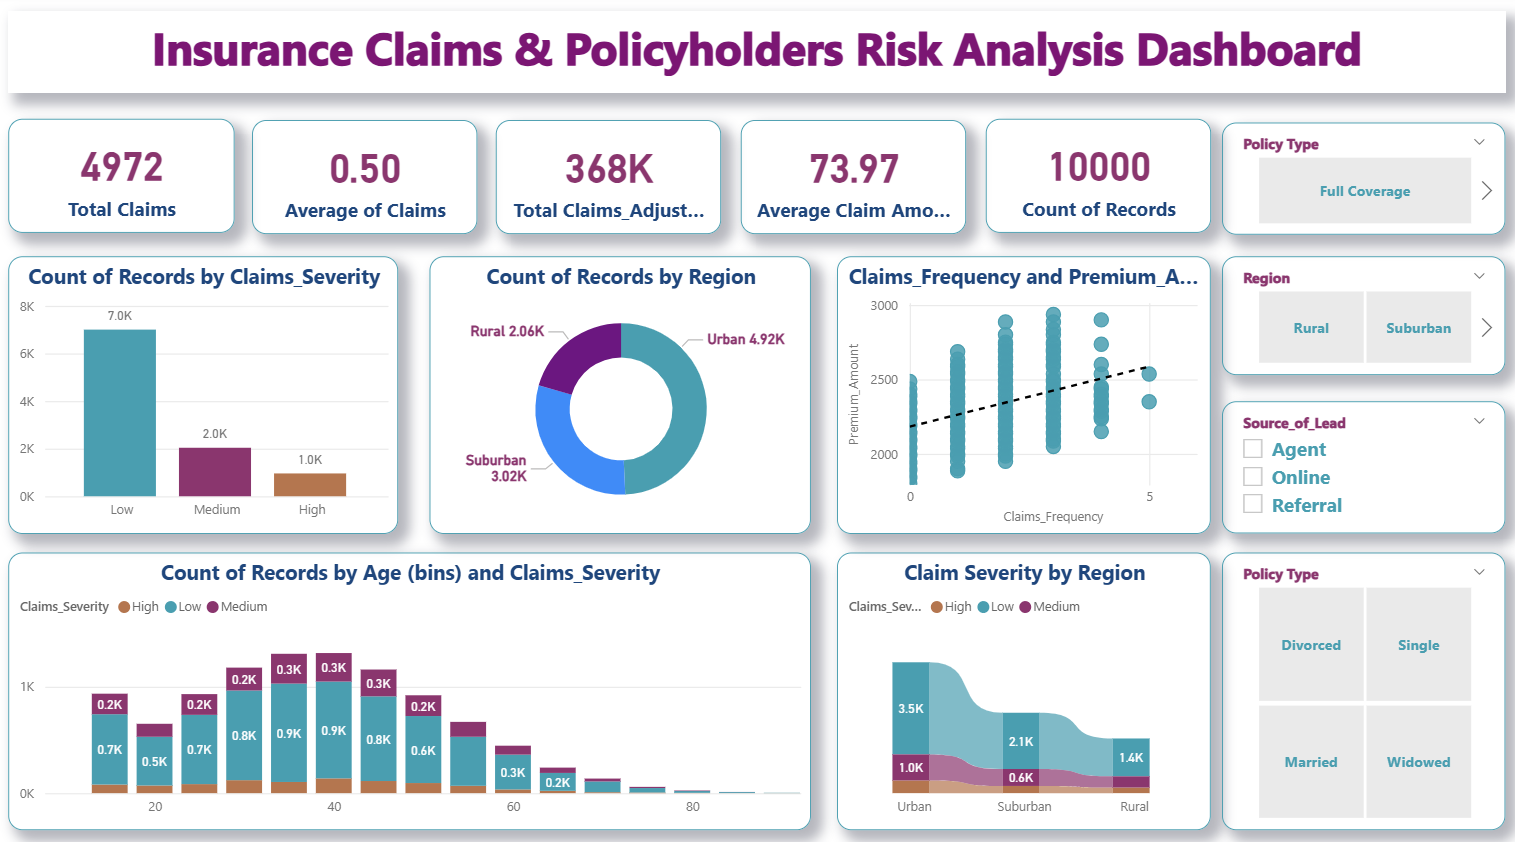

The dashboard page shown, as its layout file describes it:
{"tool":"powerbi","page":{"name":"Page 1","canvas":[1280,720],"ordinal":0},"visuals":[{"type":"textbox","box":[9.6,13.7,1259.7,68.6],"z":0},{"type":"card","fields":{"Values":["Sum(synthetic_insurance_data.Claims_Frequency)"]},"box":[9.6,104.3,190,96.1],"z":1000},{"type":"card","fields":{"Values":["Avg(synthetic_insurance_data.Claims_Frequency)"]},"box":[214.1,105.7,189.4,96.1],"z":2000},{"type":"card","fields":{"Values":["Sum(synthetic_insurance_data.Claims_Adjustment)"]},"box":[419.9,105.7,189.4,96.1],"z":3000},{"type":"columnChart","fields":{"Category":["synthetic_insurance_data.Claims_Severity"],"Y":["CountNonNull(synthetic_insurance_data.Index)"]},"box":[9.6,219.6,328,233.3],"z":4000},{"type":"columnChart","fields":{"Y":["CountNonNull(synthetic_insurance_data.Index)"],"Category":["synthetic_insurance_data.Age (bins)"],"Series":["synthetic_insurance_data.Claims_Severity"]},"box":[9.6,469.3,675.1,233.3],"z":5000},{"type":"donutChart","fields":{"Category":["synthetic_insurance_data.Region"],"Y":["CountNonNull(synthetic_insurance_data.Index)"]},"box":[363.6,219.6,321.1,233.3],"z":6000},{"type":"ribbonChart","title":"Claim Severity by Region","fields":{"Category":["synthetic_insurance_data.Region"],"Y":["CountNonNull(synthetic_insurance_data.Index)"],"Series":["synthetic_insurance_data.Claims_Severity"]},"box":[706.7,469.3,314.2,233.3],"z":7000},{"type":"card","fields":{"Values":["synthetic_insurance_data.Average Claim Amount"]},"box":[625.7,105.7,189.4,96.1],"z":8000},{"type":"scatterChart","fields":{"X":["synthetic_insurance_data.Claims_Frequency"],"Y":["synthetic_insurance_data.Premium_Amount"]},"box":[706.7,219.6,314.2,233.3],"z":9000},{"type":"card","fields":{"Values":["Count(synthetic_insurance_data.Index)"]},"box":[831.6,104.3,189.4,96.1],"z":11000},{"type":"slicer","fields":{"Values":["synthetic_insurance_data.Policy_Type"]},"box":[1030.5,107,238.8,94.7],"z":11001},{"type":"slicer","fields":{"Values":["synthetic_insurance_data.Region"]},"box":[1030.5,219.6,238.8,100.2],"z":11002},{"type":"slicer","fields":{"Values":["synthetic_insurance_data.Marital_Status"]},"box":[1030.5,469.3,238.8,233.3],"z":11003},{"type":"slicer","fields":{"Values":["synthetic_insurance_data.Source_of_Lead"]},"box":[1030.5,341.7,238.8,111.1],"z":11004}]}

Visuals, with their boxes in screenshot pixels (x1, y1, x2, y2), scaled from the page's 1280x720 canvas onto the 1515x842 screenshot:
textbox: bbox=[11, 16, 1502, 96]
card - Sum(synthetic_insurance_data.Claims_Frequency): bbox=[11, 122, 236, 234]
card - Avg(synthetic_insurance_data.Claims_Frequency): bbox=[253, 124, 478, 236]
card - Sum(synthetic_insurance_data.Claims_Adjustment): bbox=[497, 124, 721, 236]
columnChart - synthetic_insurance_data.Claims_Severity x CountNonNull(synthetic_insurance_data.Index): bbox=[11, 257, 400, 530]
columnChart - CountNonNull(synthetic_insurance_data.Index) x synthetic_insurance_data.Age (bins): bbox=[11, 549, 810, 822]
donutChart - synthetic_insurance_data.Region x CountNonNull(synthetic_insurance_data.Index): bbox=[430, 257, 810, 530]
"Claim Severity by Region" ribbonChart: bbox=[836, 549, 1208, 822]
card - synthetic_insurance_data.Average Claim Amount: bbox=[741, 124, 965, 236]
scatterChart - synthetic_insurance_data.Claims_Frequency x synthetic_insurance_data.Premium_Amount: bbox=[836, 257, 1208, 530]
card - Count(synthetic_insurance_data.Index): bbox=[984, 122, 1208, 234]
slicer - synthetic_insurance_data.Policy_Type: bbox=[1220, 125, 1502, 236]
slicer - synthetic_insurance_data.Region: bbox=[1220, 257, 1502, 374]
slicer - synthetic_insurance_data.Marital_Status: bbox=[1220, 549, 1502, 822]
slicer - synthetic_insurance_data.Source_of_Lead: bbox=[1220, 400, 1502, 530]
